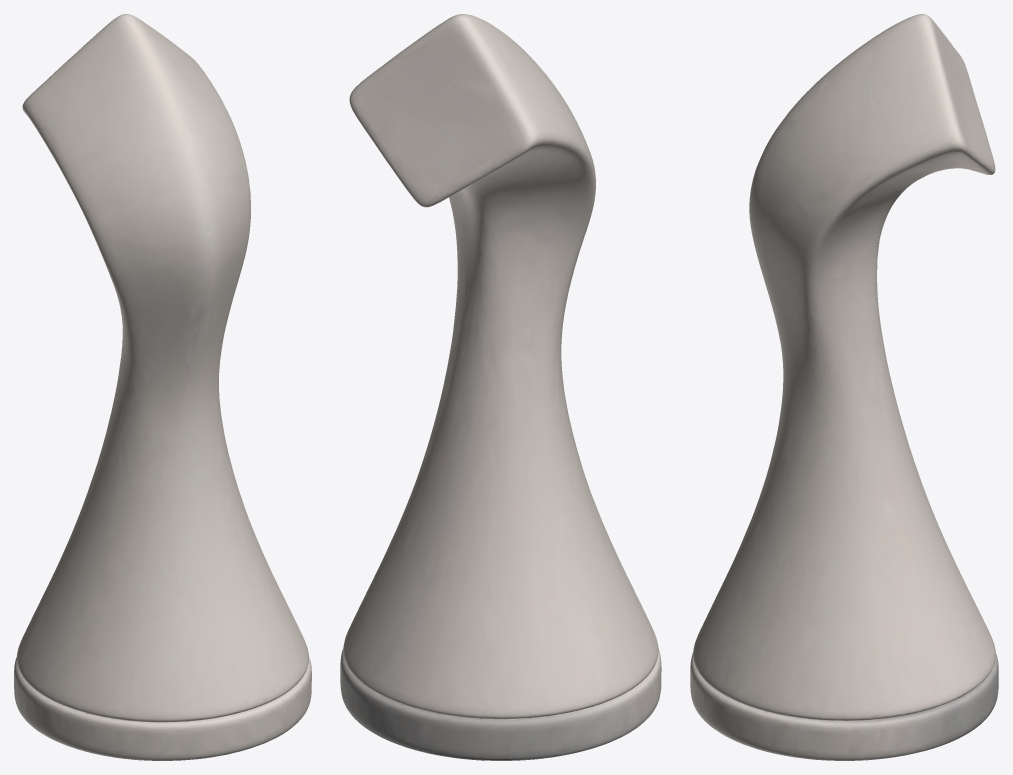
Rendered from knight-white-hd.glb.
3 renders of one model, left to right at view 1: azimuth 30°, elevation 25°; view 2: azimuth 150°, elevation 25°; view 3: azimuth 270°, elevation 25°, orthographic. The views are drawn at different scales.
Bounding box in the file's own units: 0.4927 × 1.2 × 0.4915.
1 material, 1 textured.
